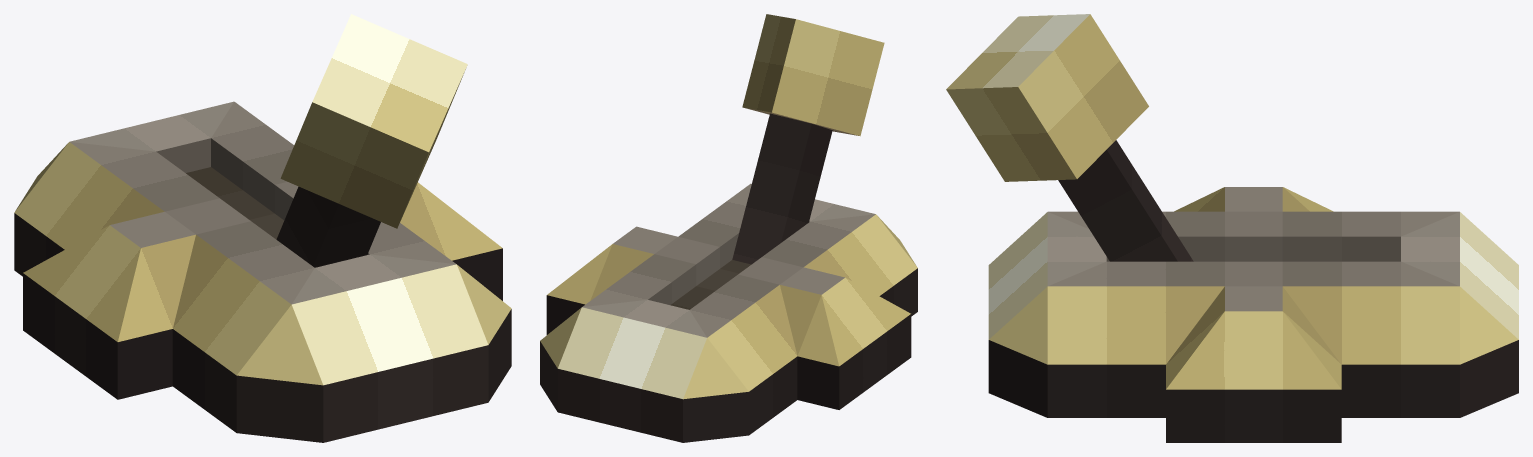
File: lever_3state_1.obj
3 renders of one model, left to right at view 1: azimuth 30°, elevation 25°; view 2: azimuth 150°, elevation 25°; view 3: azimuth 270°, elevation 25°, orthographic. The views are drawn at different scales.
Visible parts, largest first — view 1: 3-STATE_Circle.002, LEVER_Cube.049; view 2: 3-STATE_Circle.002, LEVER_Cube.049; view 3: 3-STATE_Circle.002, LEVER_Cube.049.
Part boxes in pixels (left/top/right/bottom): 3-STATE_Circle.002: left=14, top=101, right=511, bottom=442; LEVER_Cube.049: left=276, top=14, right=467, bottom=267; 3-STATE_Circle.002: left=540, top=183, right=917, bottom=442; LEVER_Cube.049: left=732, top=14, right=884, bottom=264; 3-STATE_Circle.002: left=988, top=187, right=1518, bottom=442; LEVER_Cube.049: left=946, top=14, right=1193, bottom=261.
Bounding box in the file's own units: 0.4375 × 0.4002 × 0.6078.
